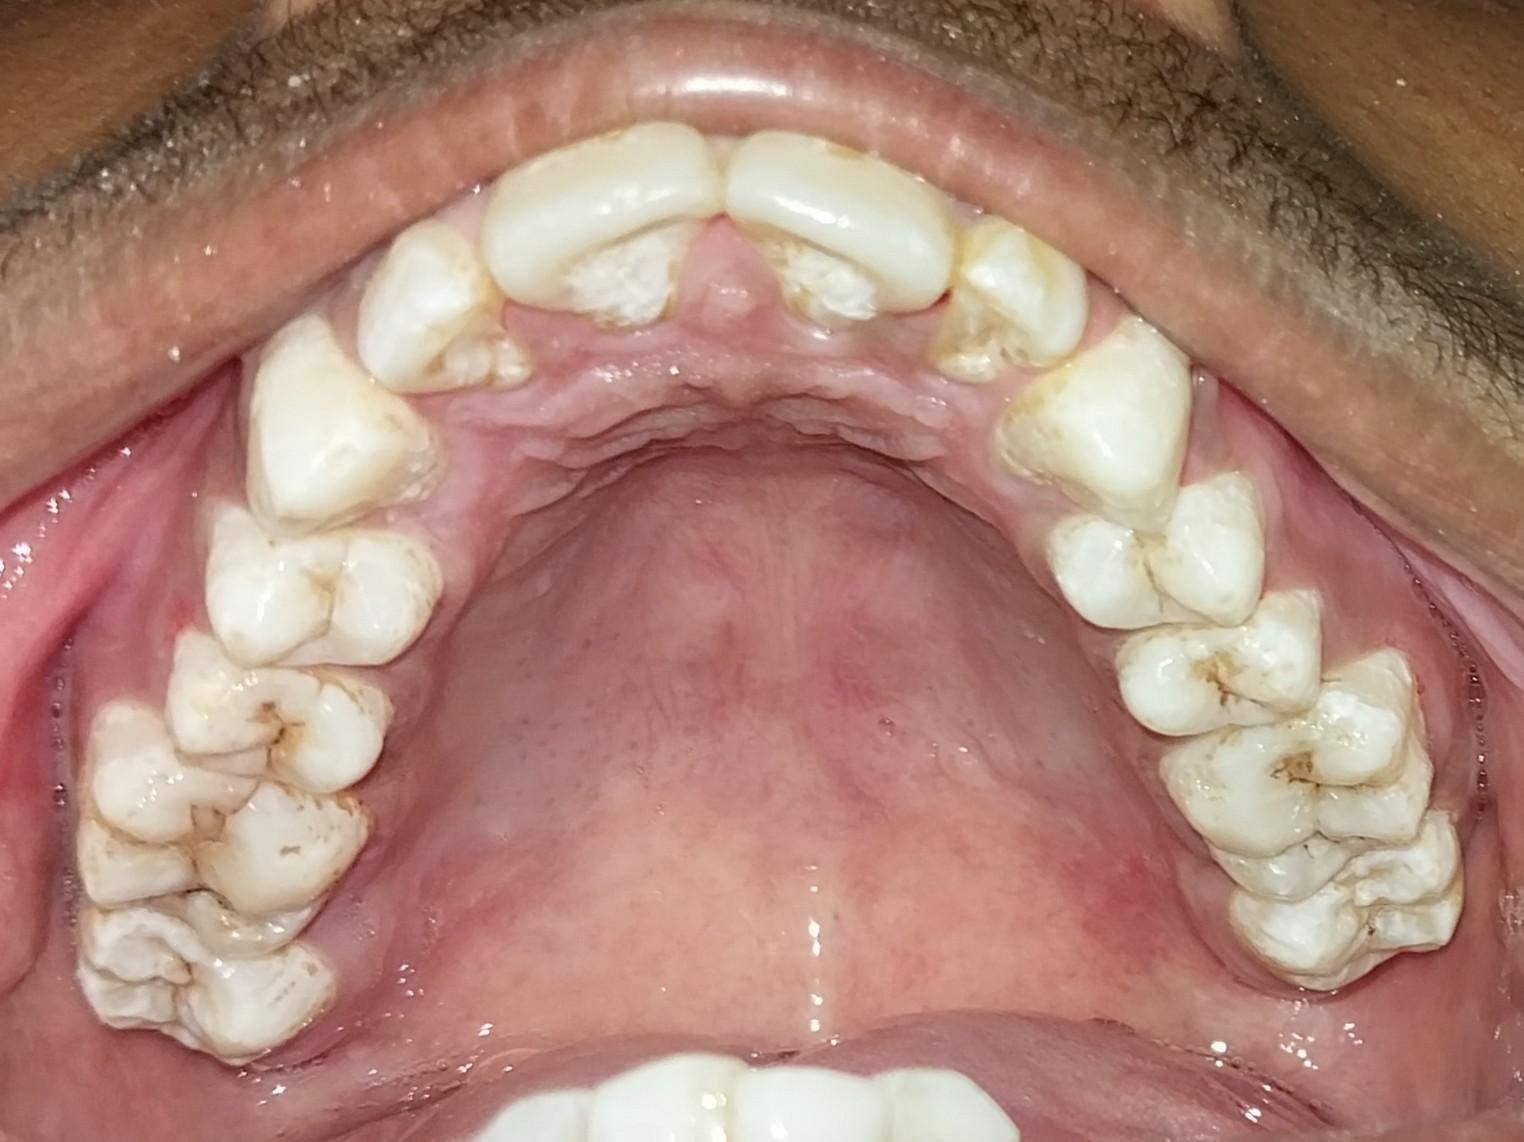D: (83, 728, 362, 965), (1165, 676, 1444, 897), (73, 897, 338, 1074), (158, 640, 388, 799)
